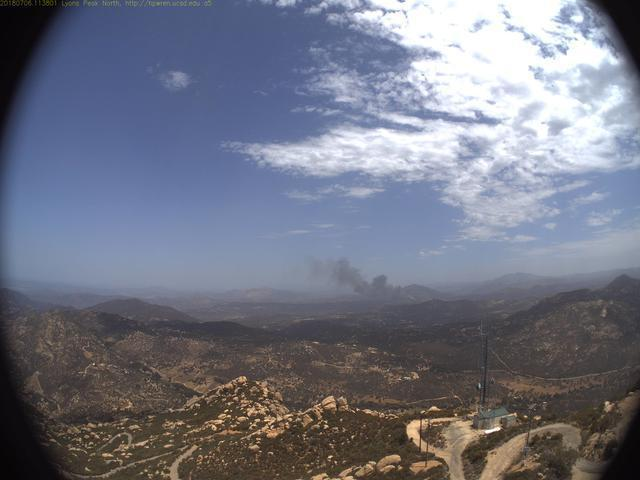Smoke: (305, 253, 445, 304)
